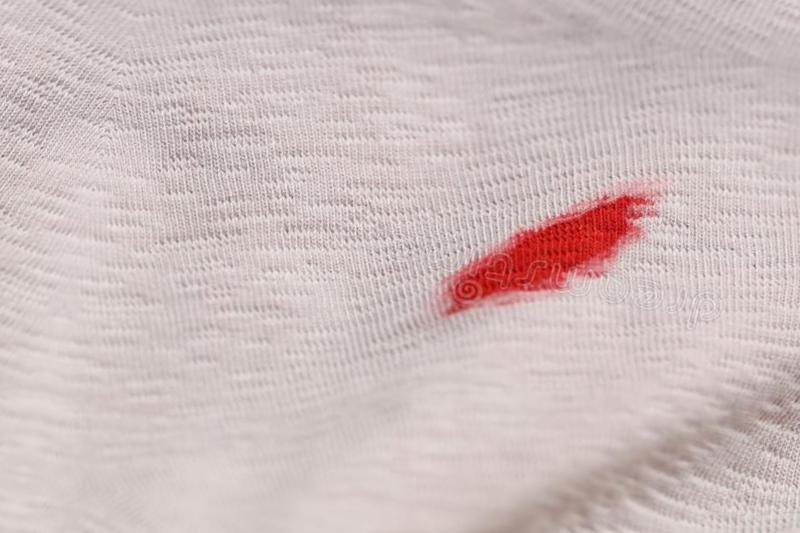stain: (439, 186, 659, 322)
